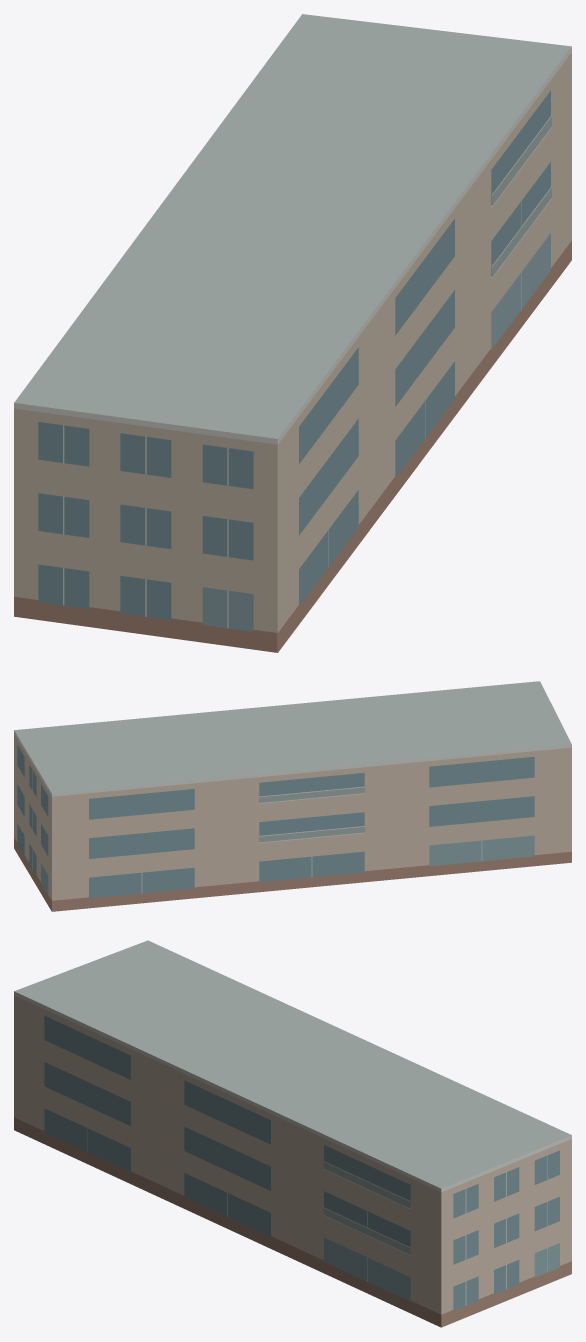
Rendered from survey-upis-32718930.glb.
The picture shows the model from 3 angles, top to bottom: view 1: azimuth 30°, elevation 25°; view 2: azimuth 150°, elevation 25°; view 3: azimuth 270°, elevation 25°; orthographic projection. The views are drawn at different scales.
Parts seen in each view (by area): view 1: survey-upis-32718930.tmp; view 2: survey-upis-32718930.tmp; view 3: survey-upis-32718930.tmp.
Part boxes in pixels (x1,y1,x2,y2): survey-upis-32718930.tmp: (14, 14, 571, 652); survey-upis-32718930.tmp: (14, 681, 571, 911); survey-upis-32718930.tmp: (14, 940, 571, 1327).
Size of the model in its own units: 35.09 by 9.15 by 33.31.
